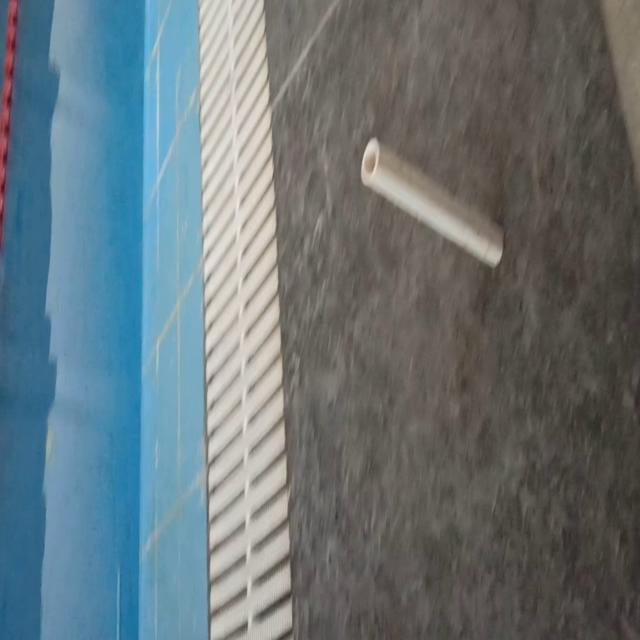Cube: (359, 134, 505, 270)
